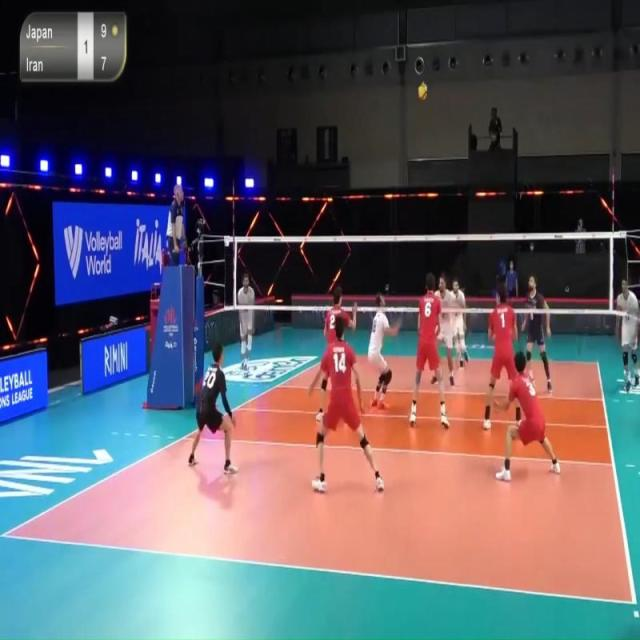volleyball: (418, 82, 428, 100)
